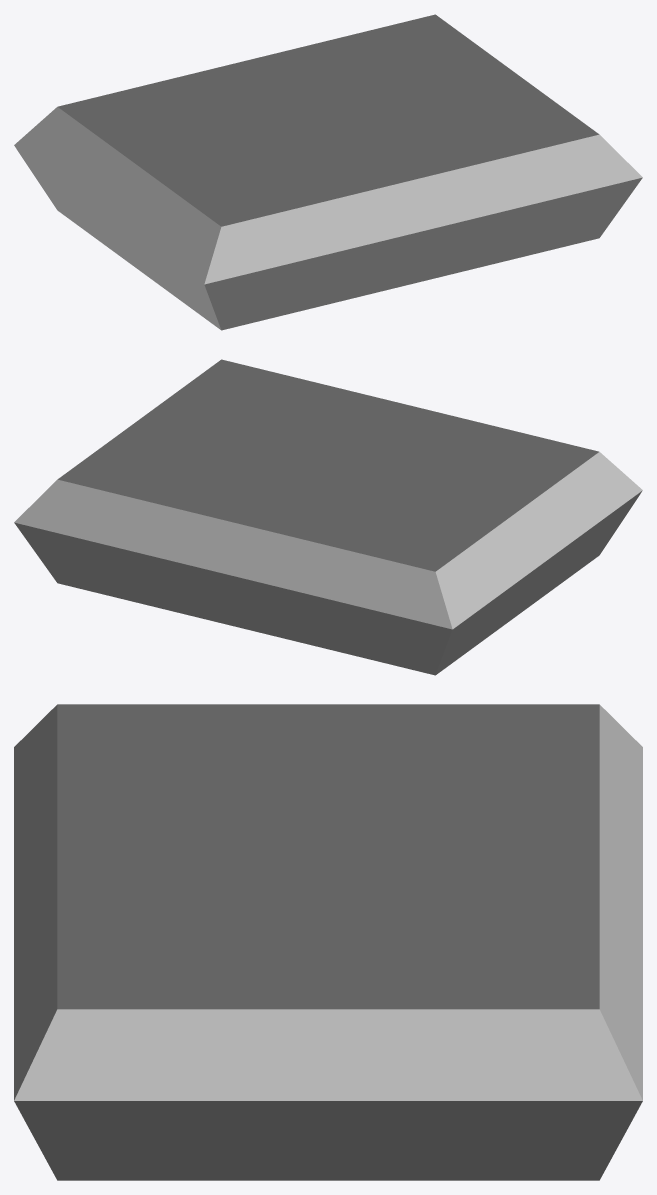
The model's file is food_package_A.FBX.
3 renders of one model, top to bottom at view 1: azimuth 30°, elevation 25°; view 2: azimuth 150°, elevation 25°; view 3: azimuth 270°, elevation 25°, orthographic. The views are drawn at different scales.
Parts seen in each view (by area): view 1: food_package_A; view 2: food_package_A; view 3: food_package_A.
Part boxes in pixels (box(x1,y1,x2,y2)): food_package_A: box(14, 14, 642, 330); food_package_A: box(14, 359, 642, 675); food_package_A: box(14, 704, 642, 1180).
Size of the model in its own units: 26.33 by 5.95 by 19.78.
